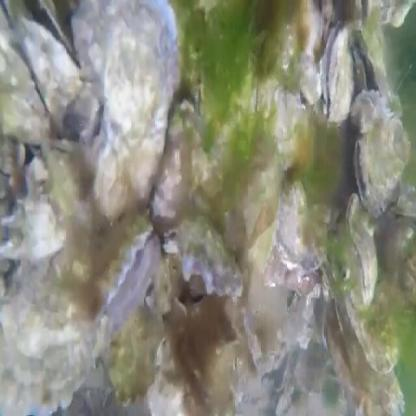3: (94, 0, 179, 212), (1, 0, 98, 146), (89, 223, 160, 343), (165, 220, 242, 300), (351, 21, 390, 92)
Oyster- Indeterminate: (353, 113, 407, 215), (346, 191, 379, 300), (321, 18, 355, 123)
Oyster-Closed: (0, 281, 97, 416), (0, 7, 52, 147), (104, 297, 159, 406), (338, 286, 399, 376), (71, 0, 113, 106), (280, 181, 330, 264), (352, 91, 401, 127)
